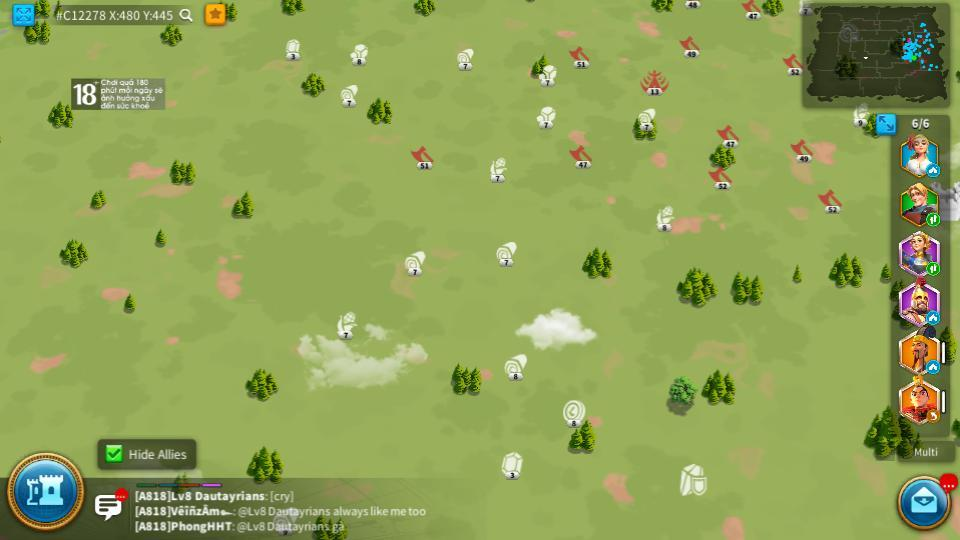gem-z-out: (498, 451, 525, 477), (283, 38, 302, 59)
march_idle: (926, 164, 941, 175), (927, 312, 940, 324), (926, 362, 940, 373)
march_marching: (925, 263, 938, 275), (927, 216, 940, 226)
march_returning: (926, 411, 940, 422)
